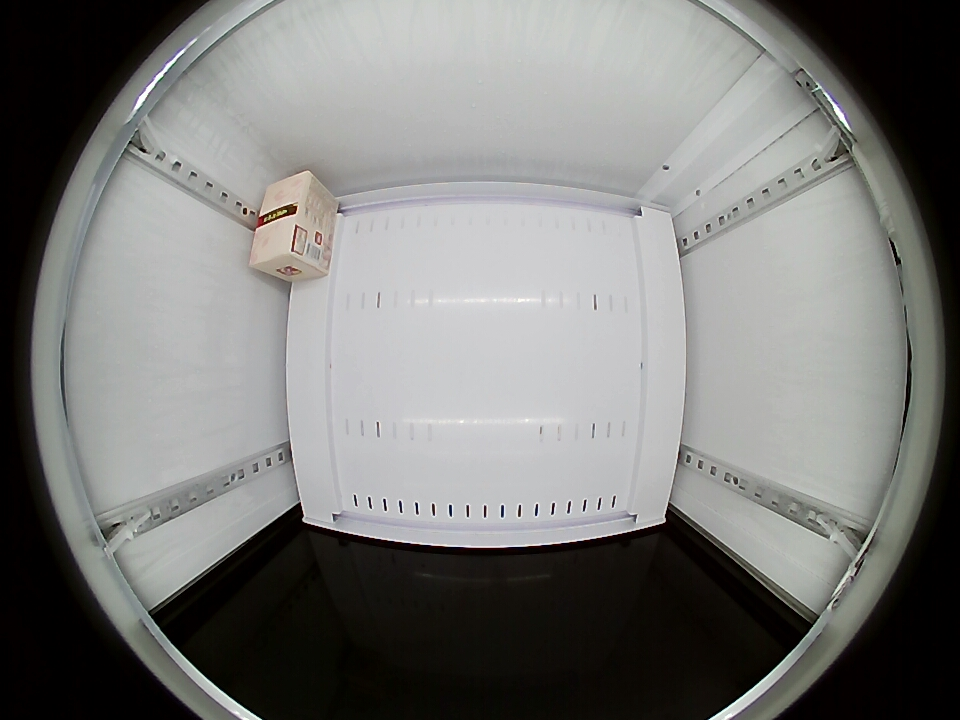rousongbing: (250, 170, 326, 275)
